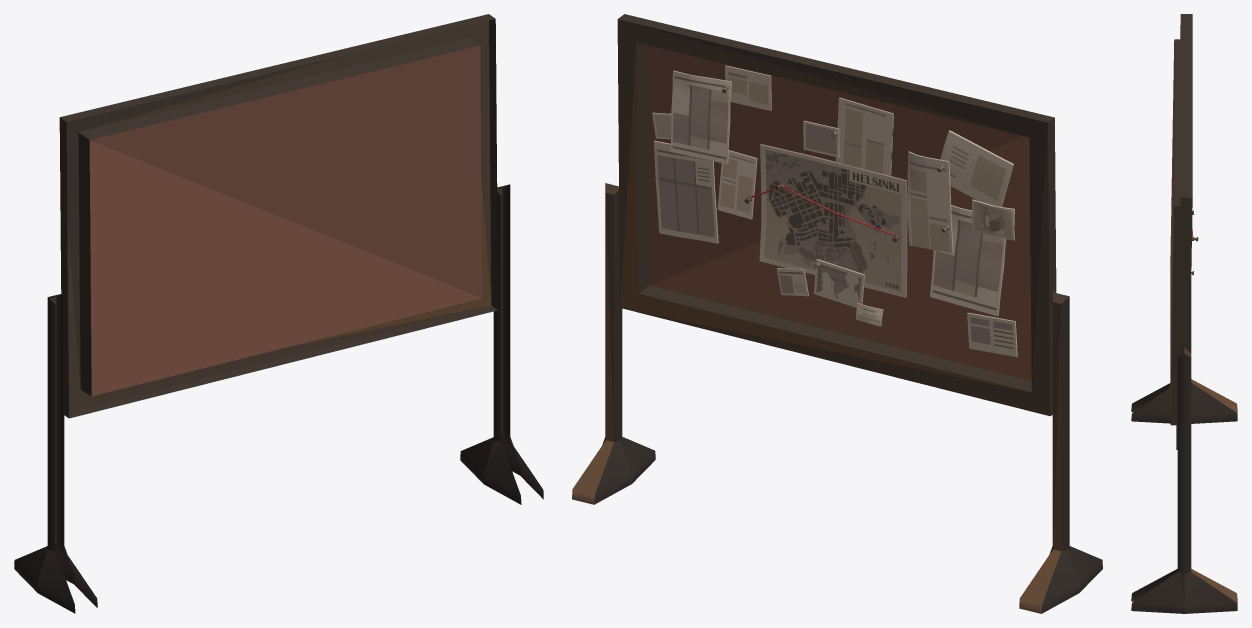
The model's file is pin_board.fbx.
3 renders of one model, left to right at view 1: azimuth 30°, elevation 25°; view 2: azimuth 150°, elevation 25°; view 3: azimuth 270°, elevation 25°, orthographic. The views are drawn at different scales.
Parts seen in each view (by area): view 1: pin_board; view 2: pin_board; view 3: pin_board.
Part boxes in pixels (x1,y1,x2,y2): pin_board: [14, 14, 543, 613]; pin_board: [572, 14, 1102, 613]; pin_board: [1131, 14, 1237, 613].
Bounding box in the file's own units: 203 × 187 × 44.46.
